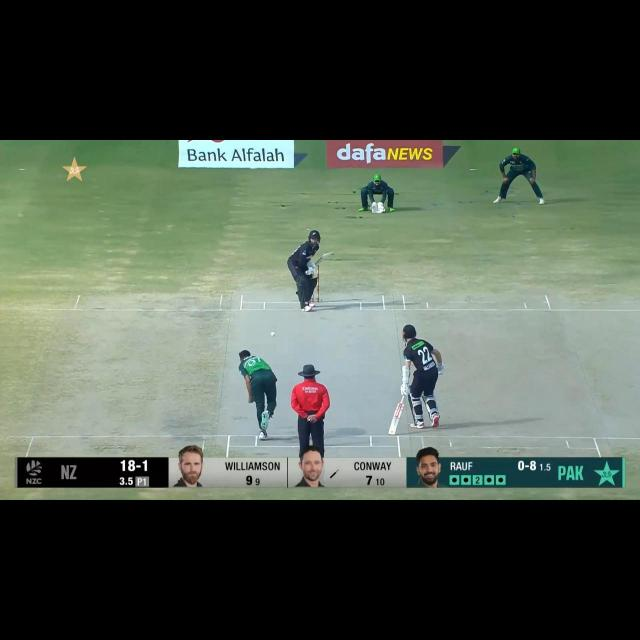bat: (389, 402, 403, 435), (314, 252, 330, 266)
toe: (388, 430, 398, 436), (323, 252, 331, 256)
